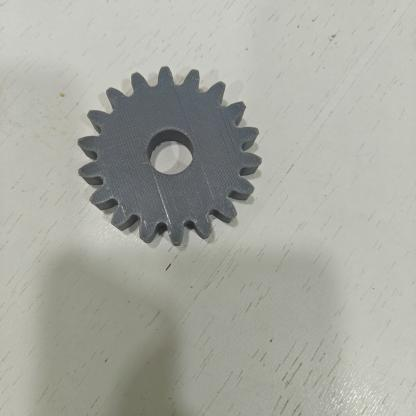gear: (68, 65, 277, 263)
